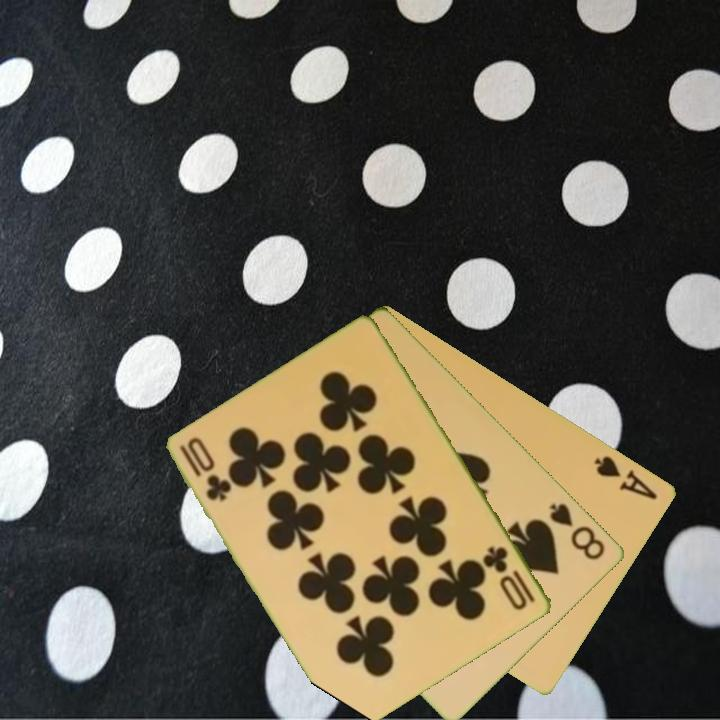10c: (480, 542, 539, 614), (176, 441, 234, 505)
8s: (546, 499, 609, 563)
As: (591, 452, 661, 503)
